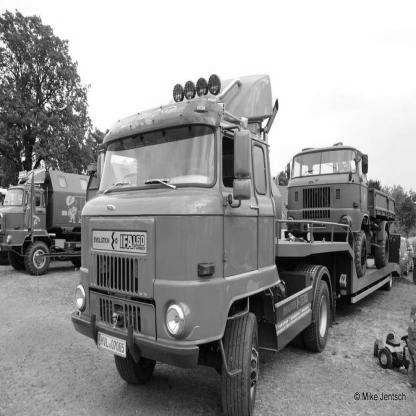truck: (75, 97, 327, 406), (292, 140, 407, 276)
